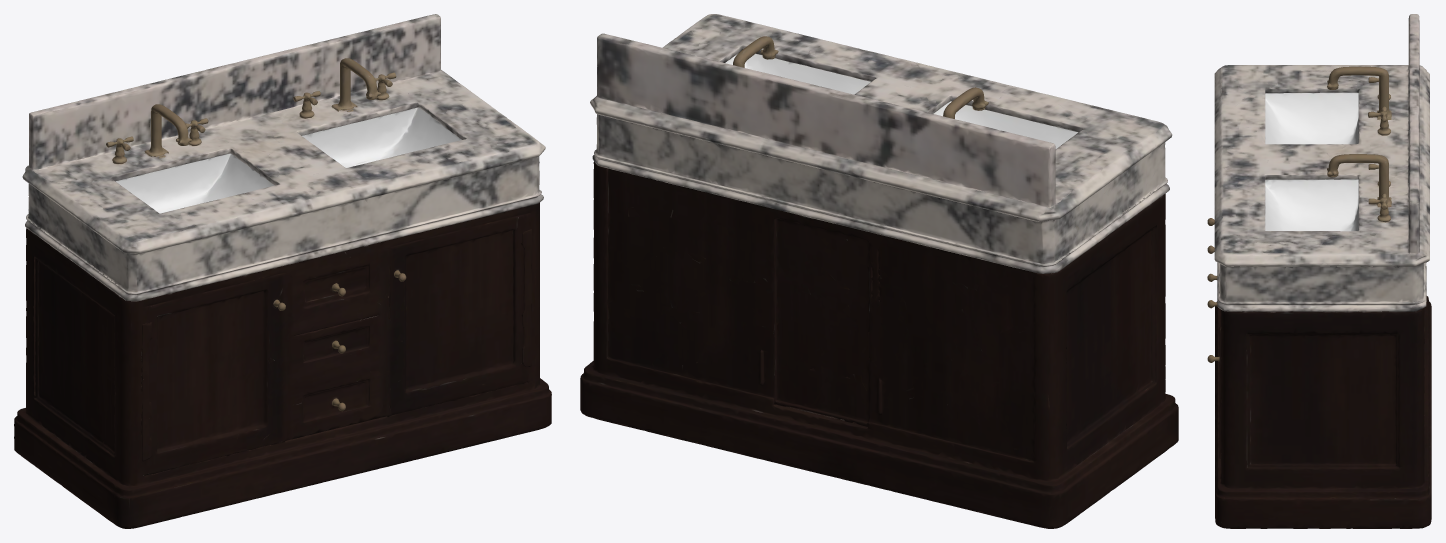
File: kitchen__sink_001.glb
3 renders of one model, left to right at view 1: azimuth 30°, elevation 25°; view 2: azimuth 150°, elevation 25°; view 3: azimuth 270°, elevation 25°, orthographic. The views are drawn at different scales.
Parts seen in each view (by area): view 1: world; view 2: world; view 3: world.
Part boxes in pixels (x1,y1,x2,y2): world: (14, 14, 551, 528); world: (580, 14, 1178, 528); world: (1207, 14, 1431, 528).
Bounding box in the file's own units: 0.9898 × 0.7384 × 0.4664.
Materials: 1 (1 with a texture image).
